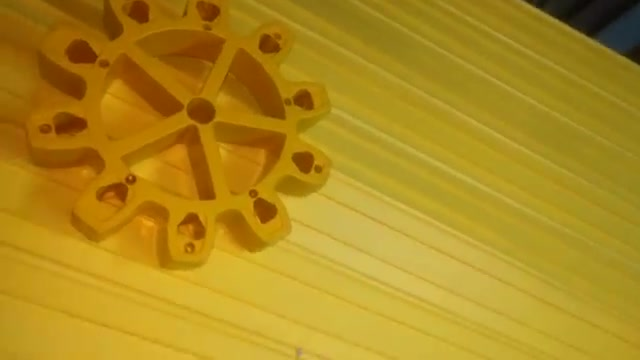gear: (21, 1, 342, 277)
